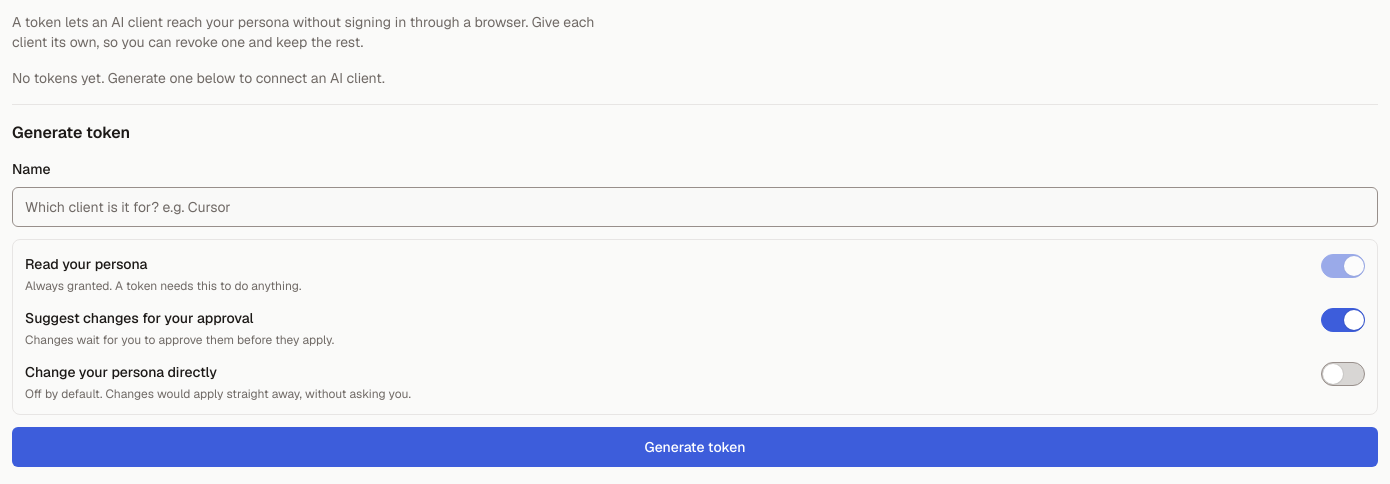
Scenario: minting one › shows the secret once, and warns that it will not come back
What coordinates should you click on to do the following:
click the button "Generate token"
I would click on:
 (695, 447)
Its box is [12,427,1378,467].
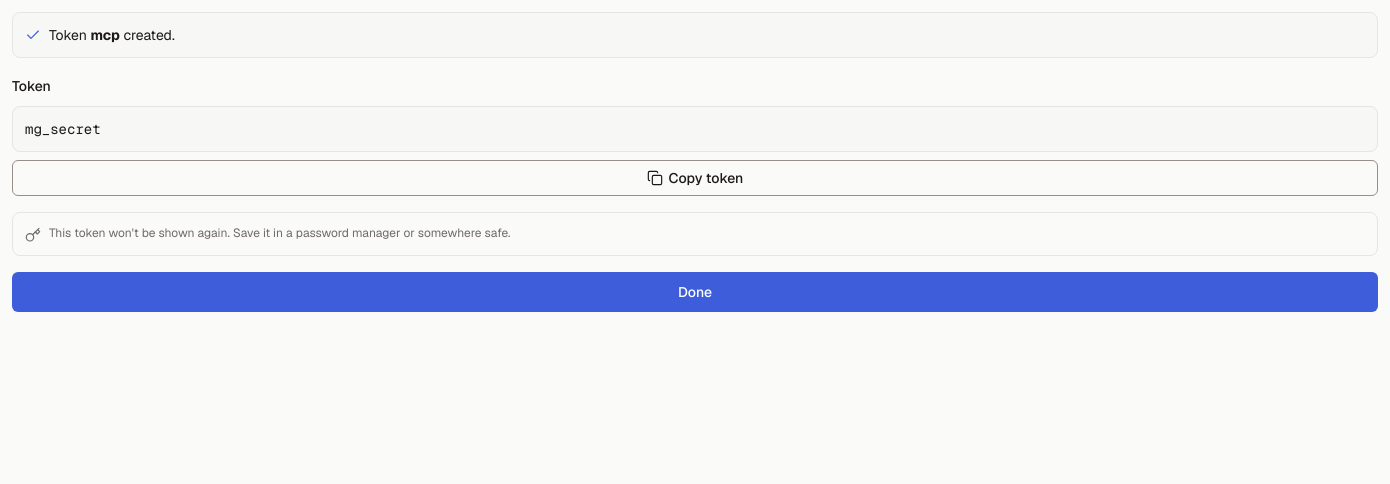
Check: the text "mg_secret" is shown, box [12,106,1378,152]
Check: the text "won.t be shown again" is shown, box [49,225,510,241]
